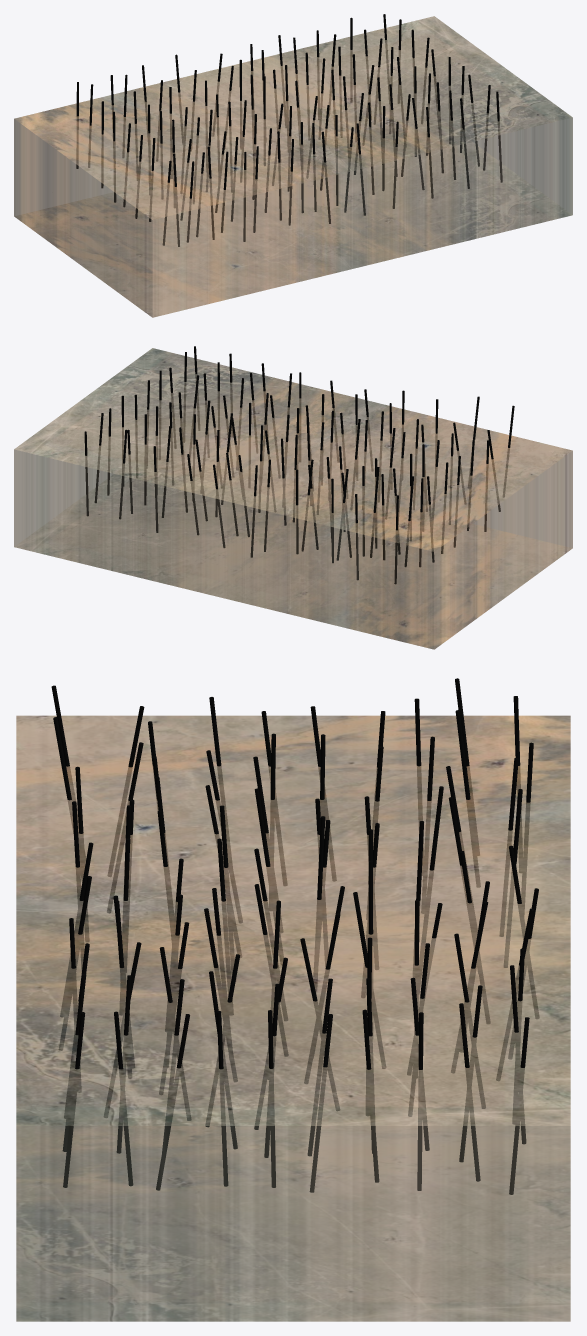
3 views of the same model, one above another, from view 1: azimuth 30°, elevation 25°; view 2: azimuth 150°, elevation 25°; view 3: azimuth 270°, elevation 25° (orthographic). The views are drawn at different scales.
Visible parts, largest first — view 1: image_2026-07-06_13-10-01.001, Cylinder.048, Cylinder.046, Cylinder.047, Cylinder.049, Cylinder.069, Cylinder.053, Cylinder.050, Cylinder.062, Cylinder.066, Cylinder.051, Cylinder.040 (+10 smaller); view 2: image_2026-07-06_13-10-01.001, Cylinder.057, Cylinder.059, Cylinder.040, Cylinder.069, Cylinder.058, Cylinder.070, Cylinder.044, Cylinder.060, Cylinder.063, Cylinder.066, Cylinder.051 (+7 smaller); view 3: image_2026-07-06_13-10-01.001, Cylinder.070, Cylinder.058, Cylinder.052, Cylinder.046, Cylinder.040, Cylinder.057, Cylinder.048, Cylinder.043, Cylinder.044, Cylinder.063, Cylinder.056 (+24 smaller).
Boxes of the visible parts, x1=… form: image_2026-07-06_13-10-01.001: x1=14, y1=16, x2=572, y2=317; Cylinder.048: x1=321, y1=123, x2=365, y2=223; Cylinder.046: x1=173, y1=146, x2=214, y2=246; Cylinder.047: x1=277, y1=123, x2=316, y2=220; Cylinder.049: x1=253, y1=139, x2=293, y2=232; Cylinder.069: x1=76, y1=82, x2=103, y2=188; Cylinder.053: x1=300, y1=115, x2=338, y2=212; Cylinder.050: x1=186, y1=151, x2=228, y2=242; Cylinder.062: x1=113, y1=104, x2=150, y2=202; Cylinder.066: x1=162, y1=152, x2=204, y2=245; Cylinder.051: x1=231, y1=128, x2=271, y2=221; Cylinder.040: x1=88, y1=74, x2=127, y2=167; image_2026-07-06_13-10-01.001: x1=14, y1=348, x2=572, y2=649; Cylinder.057: x1=250, y1=459, x2=270, y2=557; Cylinder.059: x1=301, y1=459, x2=348, y2=560; Cylinder.040: x1=370, y1=467, x2=413, y2=566; Cylinder.069: x1=394, y1=478, x2=423, y2=584; Cylinder.058: x1=296, y1=469, x2=333, y2=562; Cylinder.070: x1=355, y1=474, x2=385, y2=580; Cylinder.044: x1=350, y1=419, x2=395, y2=519; Cylinder.060: x1=213, y1=452, x2=238, y2=547; Cylinder.063: x1=441, y1=456, x2=460, y2=553; Cylinder.066: x1=449, y1=433, x2=489, y2=531; Cylinder.051: x1=378, y1=411, x2=418, y2=509; image_2026-07-06_13-10-01.001: x1=16, y1=715, x2=570, y2=1321; Cylinder.070: x1=421, y1=736, x2=533, y2=914; Cylinder.058: x1=499, y1=758, x2=522, y2=967; Cylinder.052: x1=217, y1=805, x2=234, y2=1015; Cylinder.046: x1=107, y1=706, x2=144, y2=913; Cylinder.040: x1=455, y1=678, x2=480, y2=887; Cylinder.057: x1=460, y1=845, x2=539, y2=1023; Cylinder.048: x1=59, y1=842, x2=93, y2=1050; Cylinder.043: x1=254, y1=848, x2=288, y2=1056; Cylinder.044: x1=253, y1=756, x2=283, y2=964; Cylinder.063: x1=261, y1=706, x2=336, y2=885; Cylinder.056: x1=313, y1=816, x2=423, y2=990.
Size of the model in its own units: 1.75 by 0.5625 by 1.
Materials: 3 (2 with a texture image).
